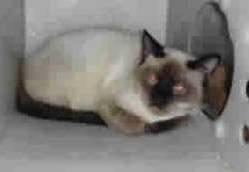cat: (24, 27, 215, 132)
